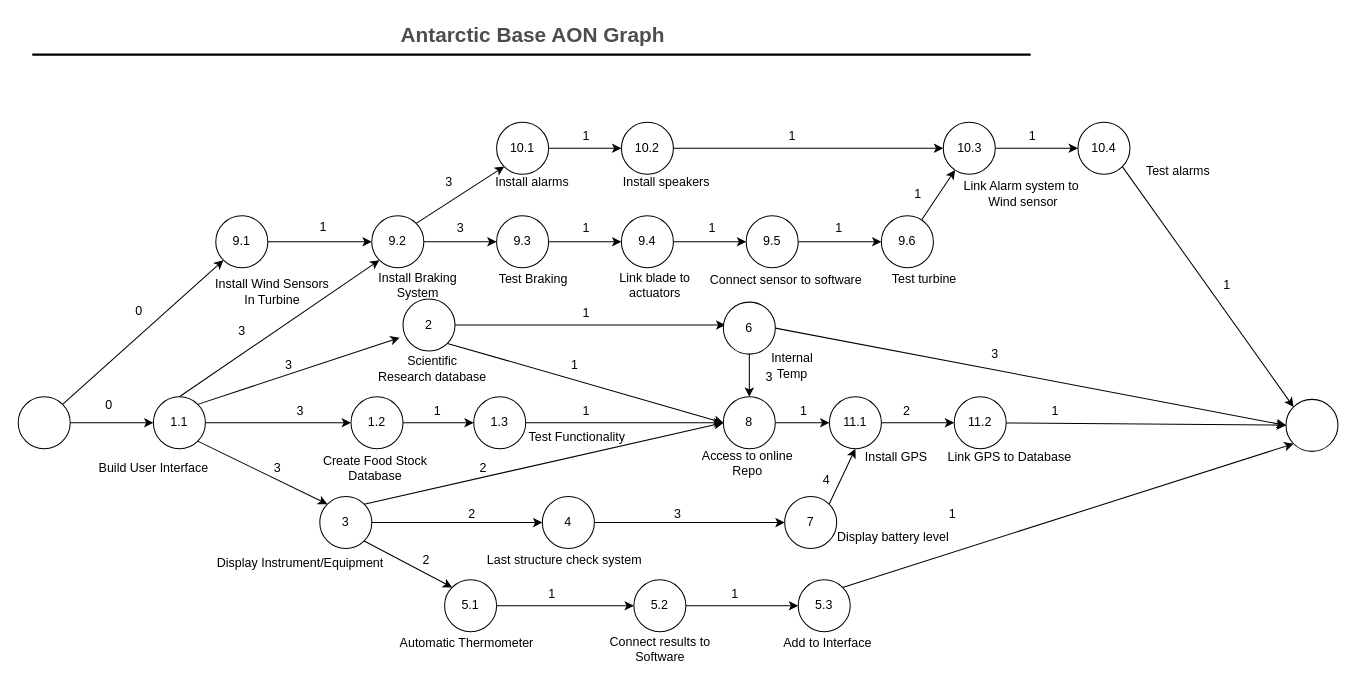
This 1356x683 diagram has some shape labels left out. Here are the shapes that lost their labels. From the top down, the centre of each, then its label:
At pixel 43 422: "Start Project".
At pixel 1311 424: "End Project".
